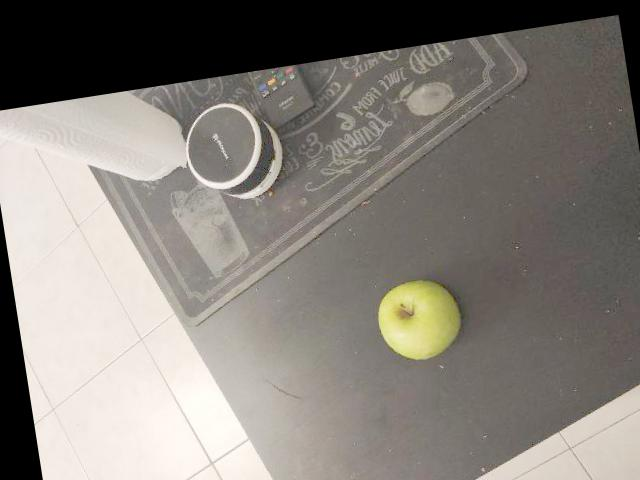apple: (373, 278, 459, 365)
